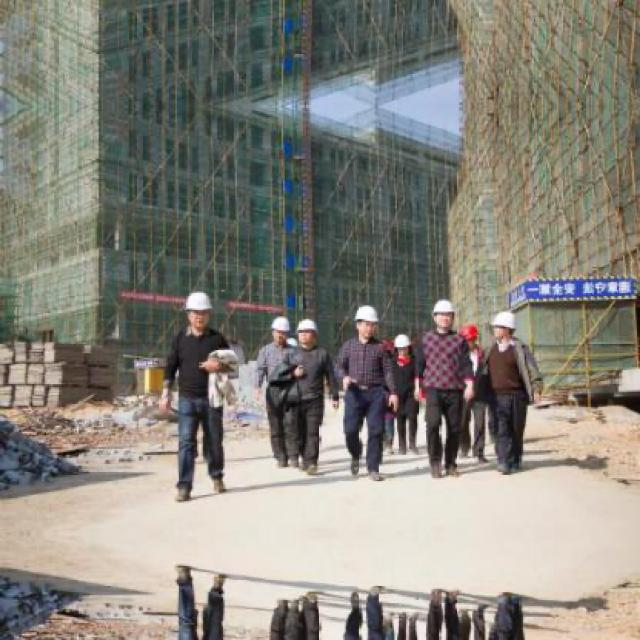helmet: (183, 288, 220, 333), (428, 296, 457, 332), (488, 308, 517, 344), (355, 301, 380, 341), (295, 314, 320, 348), (270, 314, 292, 346), (458, 319, 480, 350), (392, 333, 417, 359)
